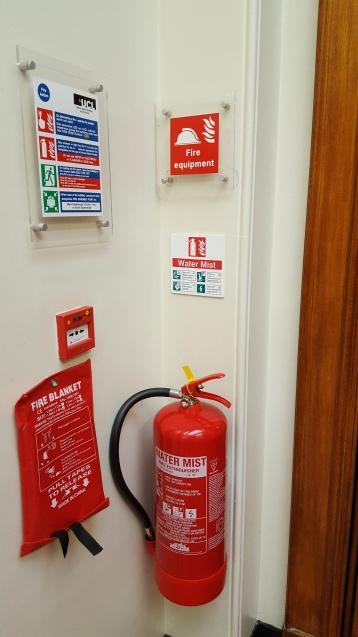APAR: (151, 371, 230, 607)
